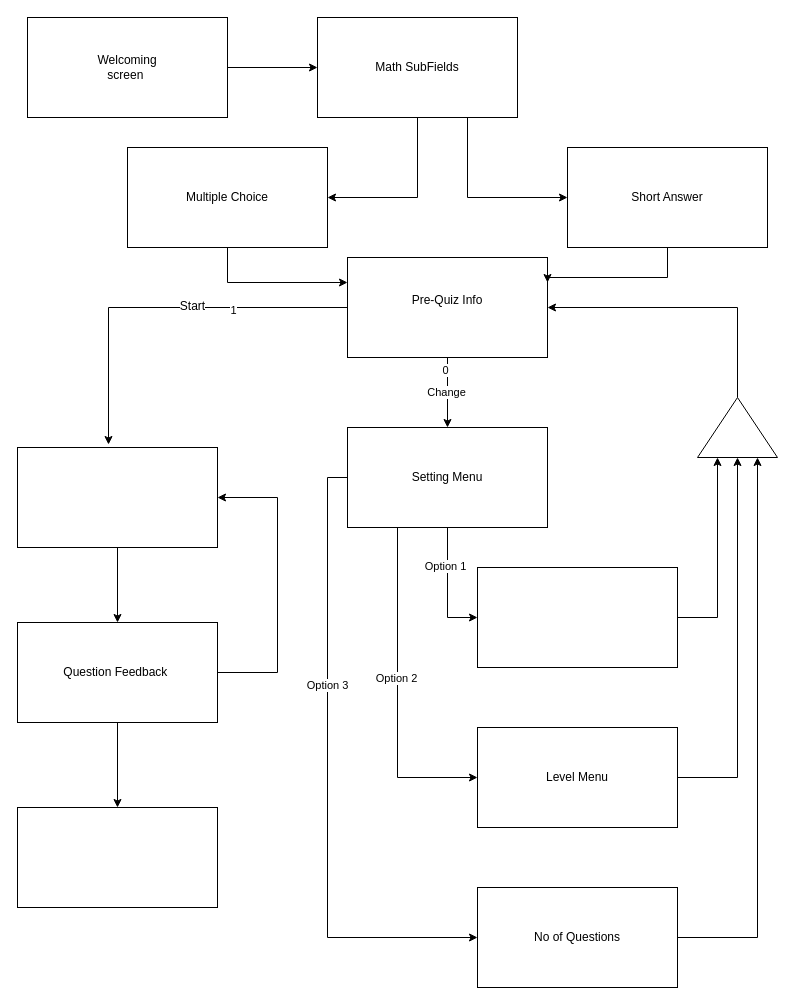
Some shapes in this 795 by 1005 pixel diagram are drawn without their labels. The shapes that lost their labels are listed below. From the top down, each one's centre as x and y in pixels, then its label:
(x=737, y=427): Back
(x=117, y=497): QuestionWindow
(x=577, y=617): Category Menu
(x=117, y=857): Quiz Feedback
